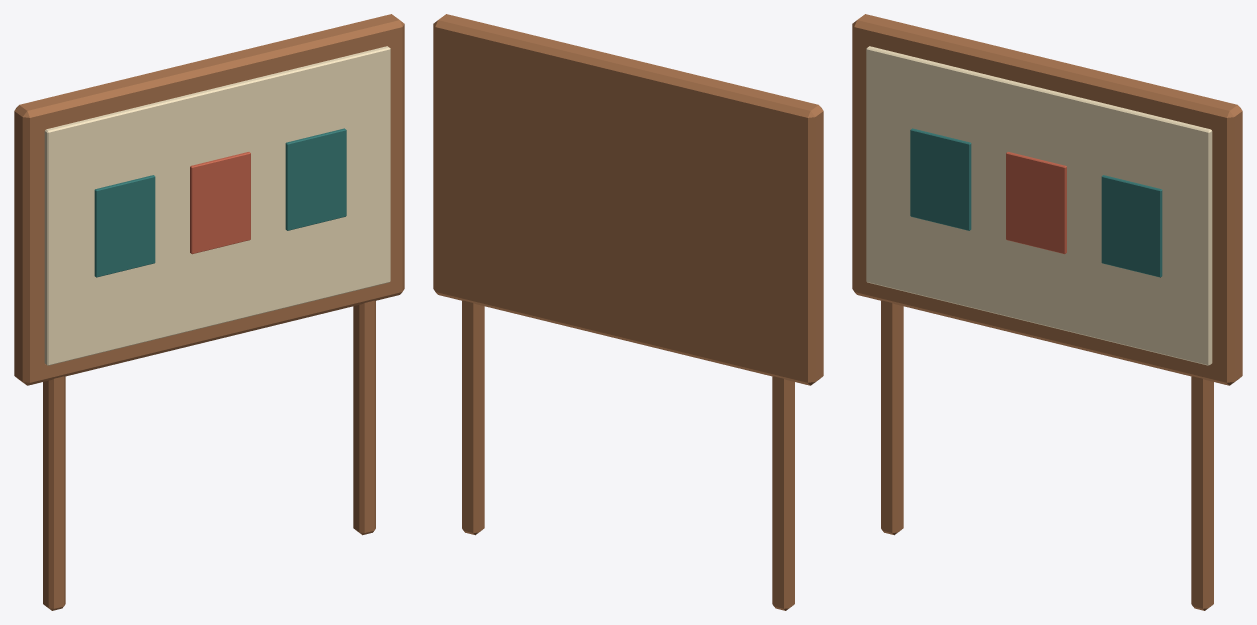
The model's file is Prop_PlanningBoard.fbx.
The picture shows the model from 3 angles, left to right: view 1: azimuth 30°, elevation 25°; view 2: azimuth 150°, elevation 25°; view 3: azimuth 330°, elevation 25°; orthographic projection.
Visible parts, largest first — view 1: Board, BoardFrame, PlanCard, PlanCard.002, PlanCard.001, Leg.008, Leg.009; view 2: BoardFrame, Leg.008, Leg.009; view 3: Board, BoardFrame, PlanCard, PlanCard.002, PlanCard.001, Leg.009, Leg.008.
Boxes of the visible parts, box(x1,y1,x2,y2) form: Board: box(44, 46, 390, 365); BoardFrame: box(14, 14, 404, 385); PlanCard: box(94, 175, 155, 277); PlanCard.002: box(285, 128, 346, 230); PlanCard.001: box(190, 152, 250, 254); Leg.008: box(43, 376, 65, 610); Leg.009: box(353, 300, 375, 535); BoardFrame: box(433, 14, 823, 385); Leg.008: box(772, 376, 794, 610); Leg.009: box(462, 300, 484, 535); Board: box(866, 46, 1212, 365); BoardFrame: box(852, 14, 1242, 385); PlanCard: box(910, 128, 971, 230); PlanCard.002: box(1101, 175, 1162, 277); PlanCard.001: box(1006, 152, 1066, 254); Leg.009: box(1191, 376, 1213, 610); Leg.008: box(881, 300, 903, 535).
Size of the model in its own units: 1.6 by 2.03 by 0.1375.
